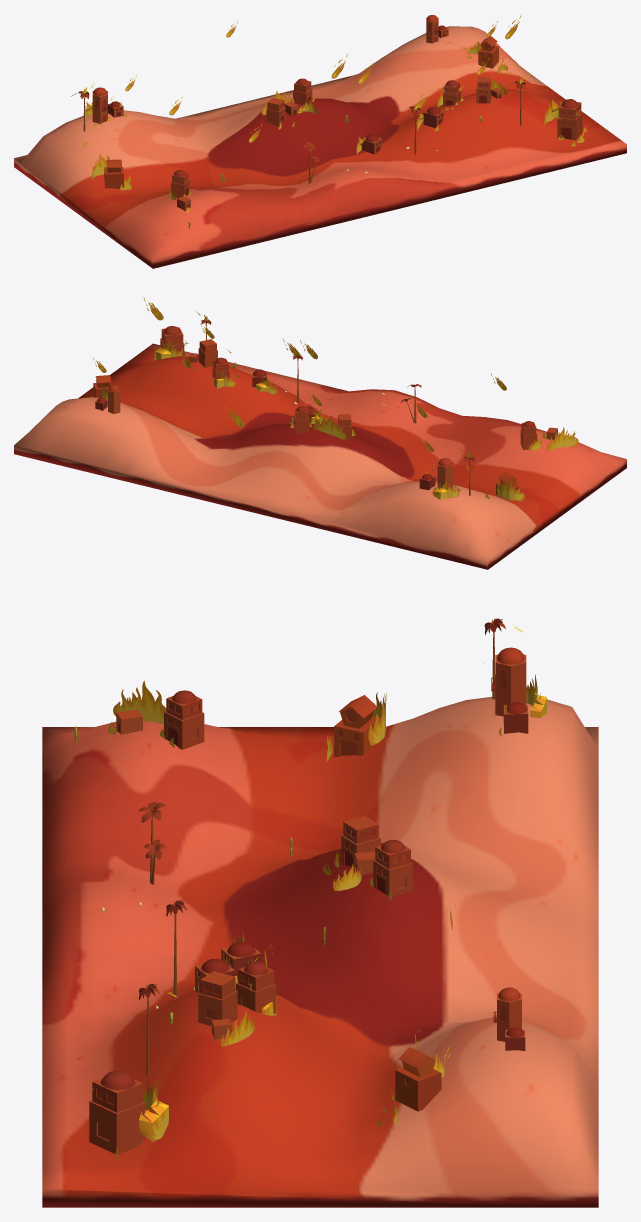
The model's file is 2. La huida de Lot.fbx.
3 renders of one model, top to bottom at view 1: azimuth 30°, elevation 25°; view 2: azimuth 150°, elevation 25°; view 3: azimuth 270°, elevation 25°, orthographic. The views are drawn at different scales.
Parts seen in each view (by area): view 1: MDL_Piso_doble pag, MDL_Edificio_B_1, MDL_Casa_A_1, MDL_Edificio_E_1, MDL_Casa_A_2, MDL_Edificio_C_1, MDL_Edificio_B_2, MDL_Edificio_B_3, MDL_Edificio_C_2, MDL_Edificio_B_4; view 2: MDL_Piso_doble pag, MDL_Fuego_7, MDL_Edificio_B_1, MDL_Edificio_C_2, MDL_Edificio_E_1, MDL_Edificio_B_3, MDL_Edificio_B_2, MDL_Fuego_6, MDL_Fuego_2; view 3: MDL_Piso_doble pag, MDL_Edificio_B_1, MDL_Casa_A_2, MDL_Edificio_B_3, MDL_Casa_A_1, MDL_Edificio_B_2, MDL_Edificio_E_1, MDL_Edificio_C_2, MDL_Edificio_B_4, MDL_Edificio_C_1, MDL_Fuego_5, MDL_Edificio_E_2 (+3 smaller).
Boxes of the visible parts, bbox=[...] form: MDL_Piso_doble pag: bbox=[14, 26, 626, 268]; MDL_Edificio_B_1: bbox=[557, 99, 582, 140]; MDL_Casa_A_1: bbox=[104, 159, 123, 188]; MDL_Edificio_E_1: bbox=[92, 87, 107, 123]; MDL_Casa_A_2: bbox=[478, 36, 498, 68]; MDL_Edificio_C_1: bbox=[266, 98, 285, 126]; MDL_Edificio_B_2: bbox=[293, 78, 312, 105]; MDL_Edificio_B_3: bbox=[171, 170, 189, 198]; MDL_Edificio_C_2: bbox=[476, 76, 491, 103]; MDL_Edificio_B_4: bbox=[443, 80, 460, 106]; MDL_Piso_doble pag: bbox=[14, 343, 626, 569]; MDL_Fuego_7: bbox=[529, 427, 578, 450]; MDL_Edificio_B_1: bbox=[160, 326, 184, 355]; MDL_Edificio_C_2: bbox=[198, 339, 217, 367]; MDL_Edificio_E_1: bbox=[437, 458, 453, 489]; MDL_Edificio_B_3: bbox=[520, 421, 537, 449]; MDL_Edificio_B_2: bbox=[294, 406, 309, 433]; MDL_Fuego_6: bbox=[314, 415, 346, 439]; MDL_Fuego_2: bbox=[497, 479, 524, 501]; MDL_Piso_doble pag: bbox=[42, 697, 598, 1207]; MDL_Edificio_B_1: bbox=[89, 1071, 146, 1154]; MDL_Casa_A_2: bbox=[395, 1047, 441, 1111]; MDL_Edificio_B_3: bbox=[164, 690, 204, 749]; MDL_Casa_A_1: bbox=[334, 695, 380, 756]; MDL_Edificio_B_2: bbox=[373, 840, 412, 896]; MDL_Edificio_E_1: bbox=[491, 647, 526, 716]; MDL_Edificio_C_2: bbox=[198, 971, 237, 1025]; MDL_Edificio_B_4: bbox=[236, 961, 276, 1013]; MDL_Edificio_C_1: bbox=[341, 816, 380, 866]; MDL_Fuego_5: bbox=[138, 1075, 168, 1141]; MDL_Edificio_E_2: bbox=[493, 987, 521, 1041].
Bounding box in the file's own units: 35.98 × 8.25 × 18.28.
